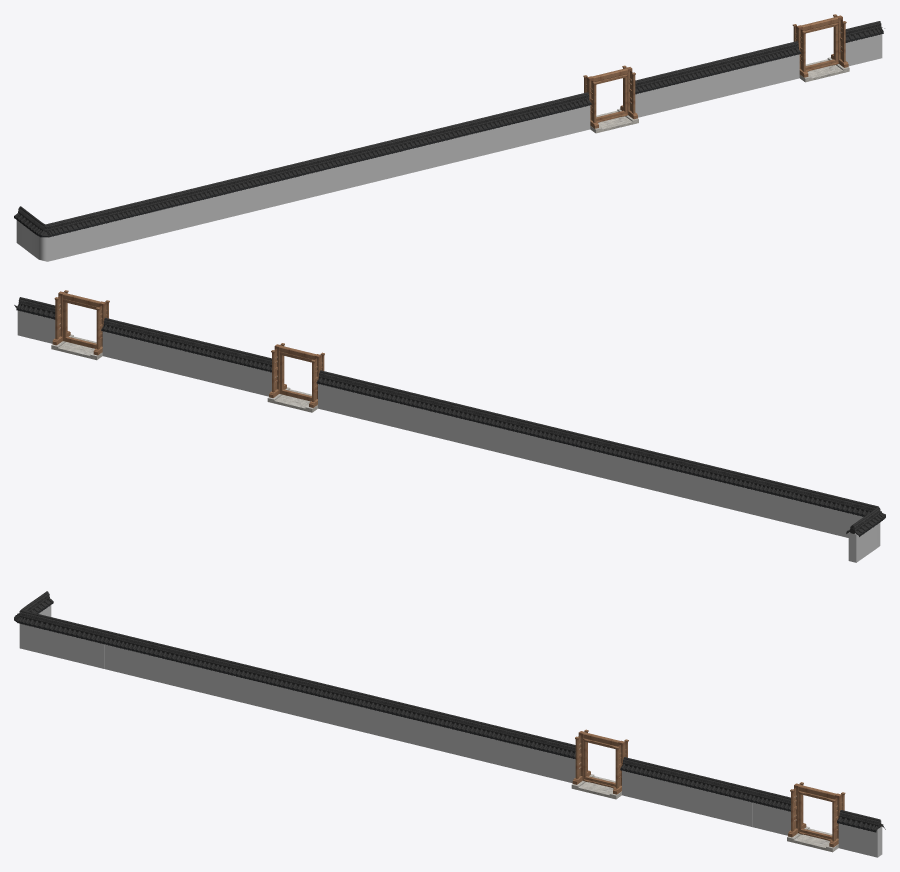
The model's file is SM_JSH_HG_StoneWallH_Splines_31.fbx.
3 views of the same model, one above another, from view 1: azimuth 30°, elevation 25°; view 2: azimuth 150°, elevation 25°; view 3: azimuth 330°, elevation 25° (orthographic). The views are drawn at different scales.
Visible parts, largest first — view 1: SM_JSH_HG_StoneWallH_Splines_31; view 2: SM_JSH_HG_StoneWallH_Splines_31; view 3: SM_JSH_HG_StoneWallH_Splines_31.
Boxes of the visible parts, <box> form: SM_JSH_HG_StoneWallH_Splines_31: <box>14,14,884,261</box>; SM_JSH_HG_StoneWallH_Splines_31: <box>14,290,885,562</box>; SM_JSH_HG_StoneWallH_Splines_31: <box>14,591,885,857</box>.
Bounding box in the file's own units: 4430 × 296 × 248.
